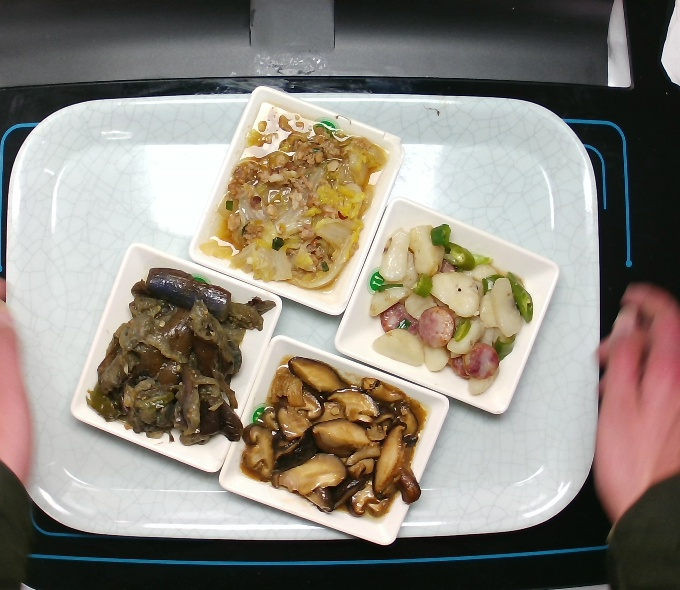wcq-MaTiGuo: (364, 221, 543, 399)
wcq-MoGu: (234, 347, 434, 526)
wcq-QieZi: (83, 262, 281, 449)
wcq-RouMoBaiCai: (195, 96, 394, 301)
